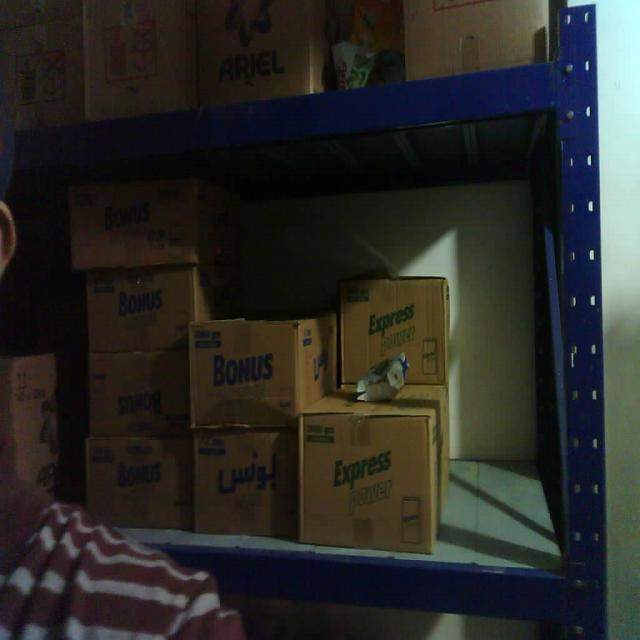cardboxes: (297, 408, 440, 558), (187, 314, 306, 436), (336, 271, 448, 389), (69, 181, 202, 271), (84, 437, 199, 532), (86, 352, 194, 434), (88, 275, 194, 353)
